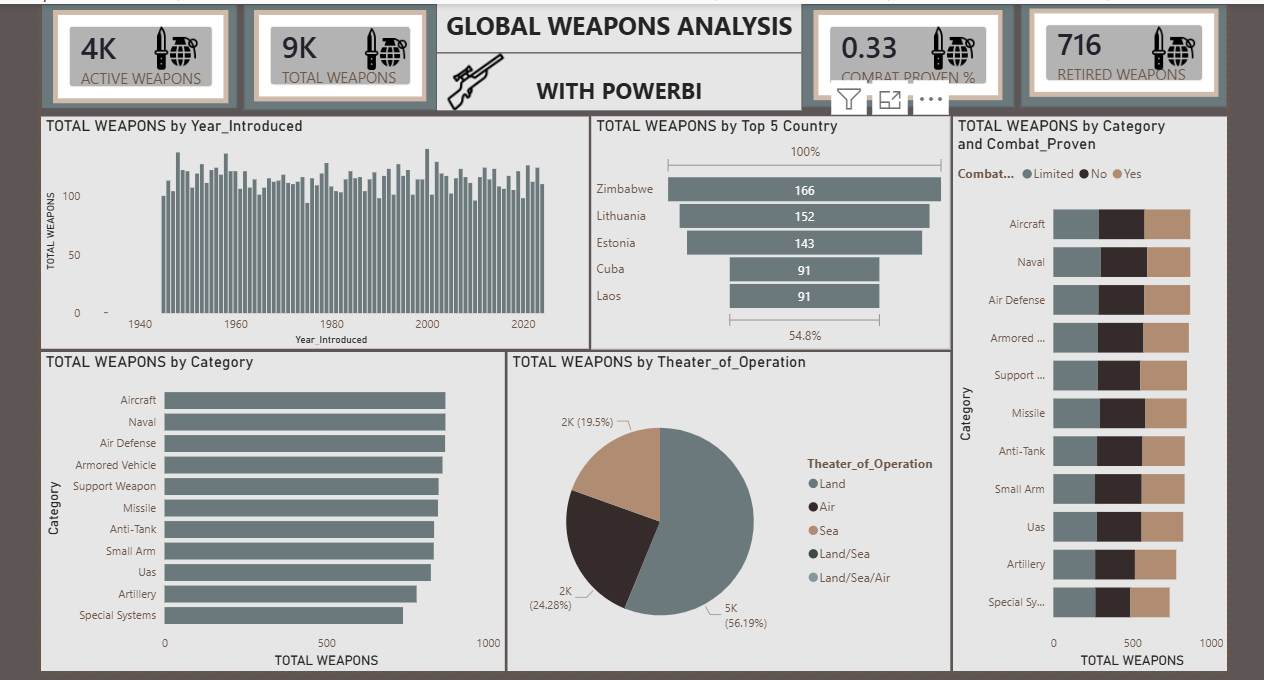

Layout of this report page (visuals, bound fields, positions):
{"tool":"powerbi","page":{"name":"Page 1","canvas":[1280,720],"ordinal":0},"visuals":[{"type":"shape","box":[1057.4,0,223.5,111.7],"z":0},{"type":"shape","box":[820.9,0,229.9,111.7],"z":1000},{"type":"shape","box":[0,0,212.1,113.3],"z":2000},{"type":"shape","box":[218.6,0,208.9,115],"z":3000},{"type":"cardVisual","fields":{"Data":["FACT Weapon Table.ACTIVE WEAPONS"]},"box":[13,6.5,189.4,100.4],"z":4000},{"type":"cardVisual","fields":{"Data":["FACT Weapon Table.COMBAT PROVEN %"]},"box":[833.9,6.5,204,97.2],"z":5000},{"type":"cardVisual","fields":{"Data":["FACT Weapon Table.TOTAL WEAPONS"]},"box":[229.9,6.5,186.2,98.8],"z":6000},{"type":"cardVisual","fields":{"Data":["FACT Weapon Table.RETIRED WEAPONS"]},"box":[1067.1,4.9,204,95.5],"z":7000},{"type":"funnel","title":"TOTAL WEAPONS by Top 5 Country","fields":{"Category":["DIM Country.Country_of_Origin"],"Y":["FACT Weapon Table.TOTAL WEAPONS"]},"box":[594.3,121.4,387,251],"z":8000},{"type":"barChart","fields":{"Category":["DIM Category.Category"],"Y":["FACT Weapon Table.TOTAL WEAPONS"]},"box":[0,375.7,500.3,344.9],"z":9000},{"type":"lineStackedColumnComboChart","fields":{"Category":["FACT Weapon Table.Year_Introduced"],"Y":["FACT Weapon Table.TOTAL WEAPONS"]},"box":[0,121.4,591,251],"z":10000},{"type":"barChart","fields":{"Category":["DIM Category.Category"],"Y":["FACT Weapon Table.TOTAL WEAPONS"],"Series":["FACT Weapon Table.Combat_Proven"]},"box":[984.5,121.4,296.3,599.1],"z":11000},{"type":"pieChart","fields":{"Category":["DIM Environment.Theater_of_Operation"],"Y":["FACT Weapon Table.TOTAL WEAPONS"]},"box":[503.6,375.1,477.7,344.9],"z":12000},{"type":"textbox","box":[427.5,0,393.5,51.8],"z":13000},{"type":"textbox","box":[427.5,53.4,393.5,61.5],"z":14000},{"type":"image","box":[341.7,25.9,61.5,45.3],"z":14001},{"type":"image","box":[438.8,34,61.5,100.4],"z":14002},{"type":"image","box":[108.5,24.3,74.5,47],"z":14003},{"type":"image","box":[947.2,24.3,74.5,47],"z":14004},{"type":"image","box":[1185.3,24.3,74.5,47],"z":14005}]}

Visuals, with their boxes in screenshot pixels (x1, y1, x2, y2):
shape: [1020, 0, 1228, 104]
shape: [799, 0, 1014, 104]
shape: [33, 0, 231, 106]
shape: [237, 0, 432, 107]
cardVisual - FACT Weapon Table.ACTIVE WEAPONS: [45, 6, 222, 100]
cardVisual - FACT Weapon Table.COMBAT PROVEN %: [811, 6, 1002, 97]
cardVisual - FACT Weapon Table.TOTAL WEAPONS: [247, 6, 421, 98]
cardVisual - FACT Weapon Table.RETIRED WEAPONS: [1029, 5, 1219, 94]
"TOTAL WEAPONS by Top 5 Country" funnel: [588, 113, 949, 348]
barChart - DIM Category.Category x FACT Weapon Table.TOTAL WEAPONS: [33, 351, 500, 673]
lineStackedColumnComboChart - FACT Weapon Table.Year_Introduced x FACT Weapon Table.TOTAL WEAPONS: [33, 113, 584, 348]
barChart - DIM Category.Category x FACT Weapon Table.TOTAL WEAPONS: [952, 113, 1228, 672]
pieChart - DIM Environment.Theater_of_Operation x FACT Weapon Table.TOTAL WEAPONS: [503, 350, 949, 672]
textbox: [432, 0, 799, 48]
textbox: [432, 50, 799, 107]
image: [352, 24, 409, 66]
image: [442, 32, 500, 125]
image: [134, 23, 204, 67]
image: [917, 23, 986, 67]
image: [1139, 23, 1209, 67]
